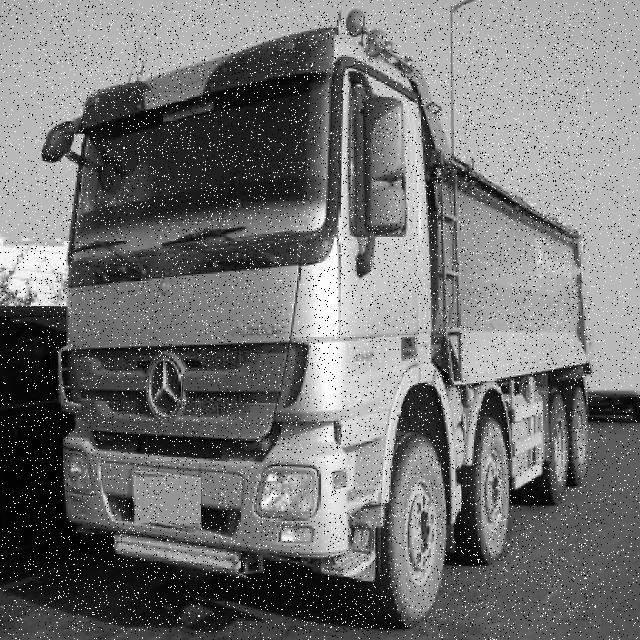Truck- Multi-Axle: (44, 12, 593, 631)
